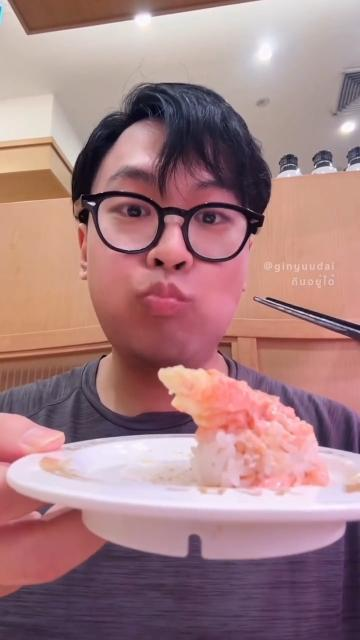janwhite: (12, 434, 360, 570)
